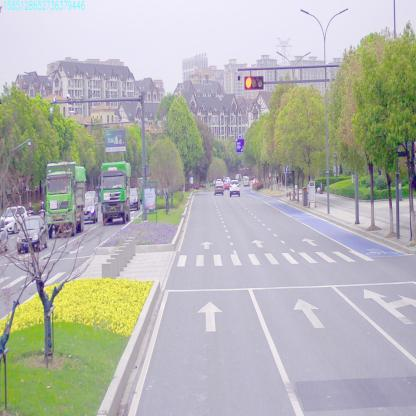traffic-light: (243, 74, 267, 92)
